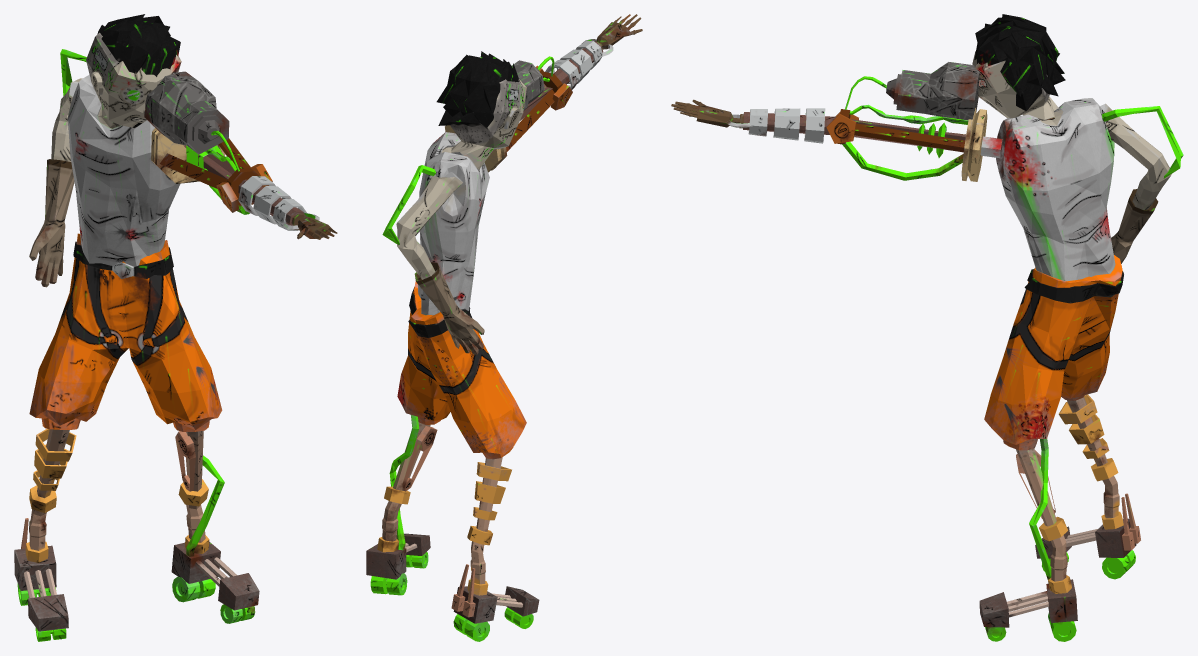
File: CyborgFINALAnimation_000078.obj
3 renders of one model, left to right at view 1: azimuth 30°, elevation 25°; view 2: azimuth 150°, elevation 25°; view 3: azimuth 270°, elevation 25°, orthographic. The views are drawn at different scales.
Parts seen in each view (by area): view 1: CyborgMesh_Cube.002; view 2: CyborgMesh_Cube.002; view 3: CyborgMesh_Cube.002.
Part boxes in pixels (left/top/right/bottom): CyborgMesh_Cube.002: left=14, top=14, right=337, bottom=641; CyborgMesh_Cube.002: left=366, top=14, right=642, bottom=641; CyborgMesh_Cube.002: left=671, top=14, right=1183, bottom=641.
Bounding box in the file's own units: 3.02 × 9.44 × 7.56.
